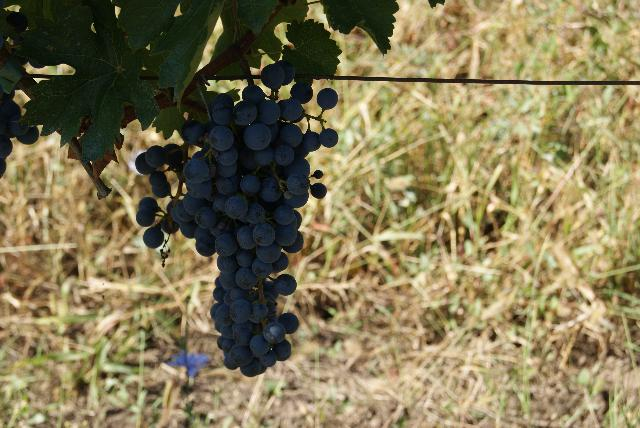grapes: (136, 61, 339, 378)
